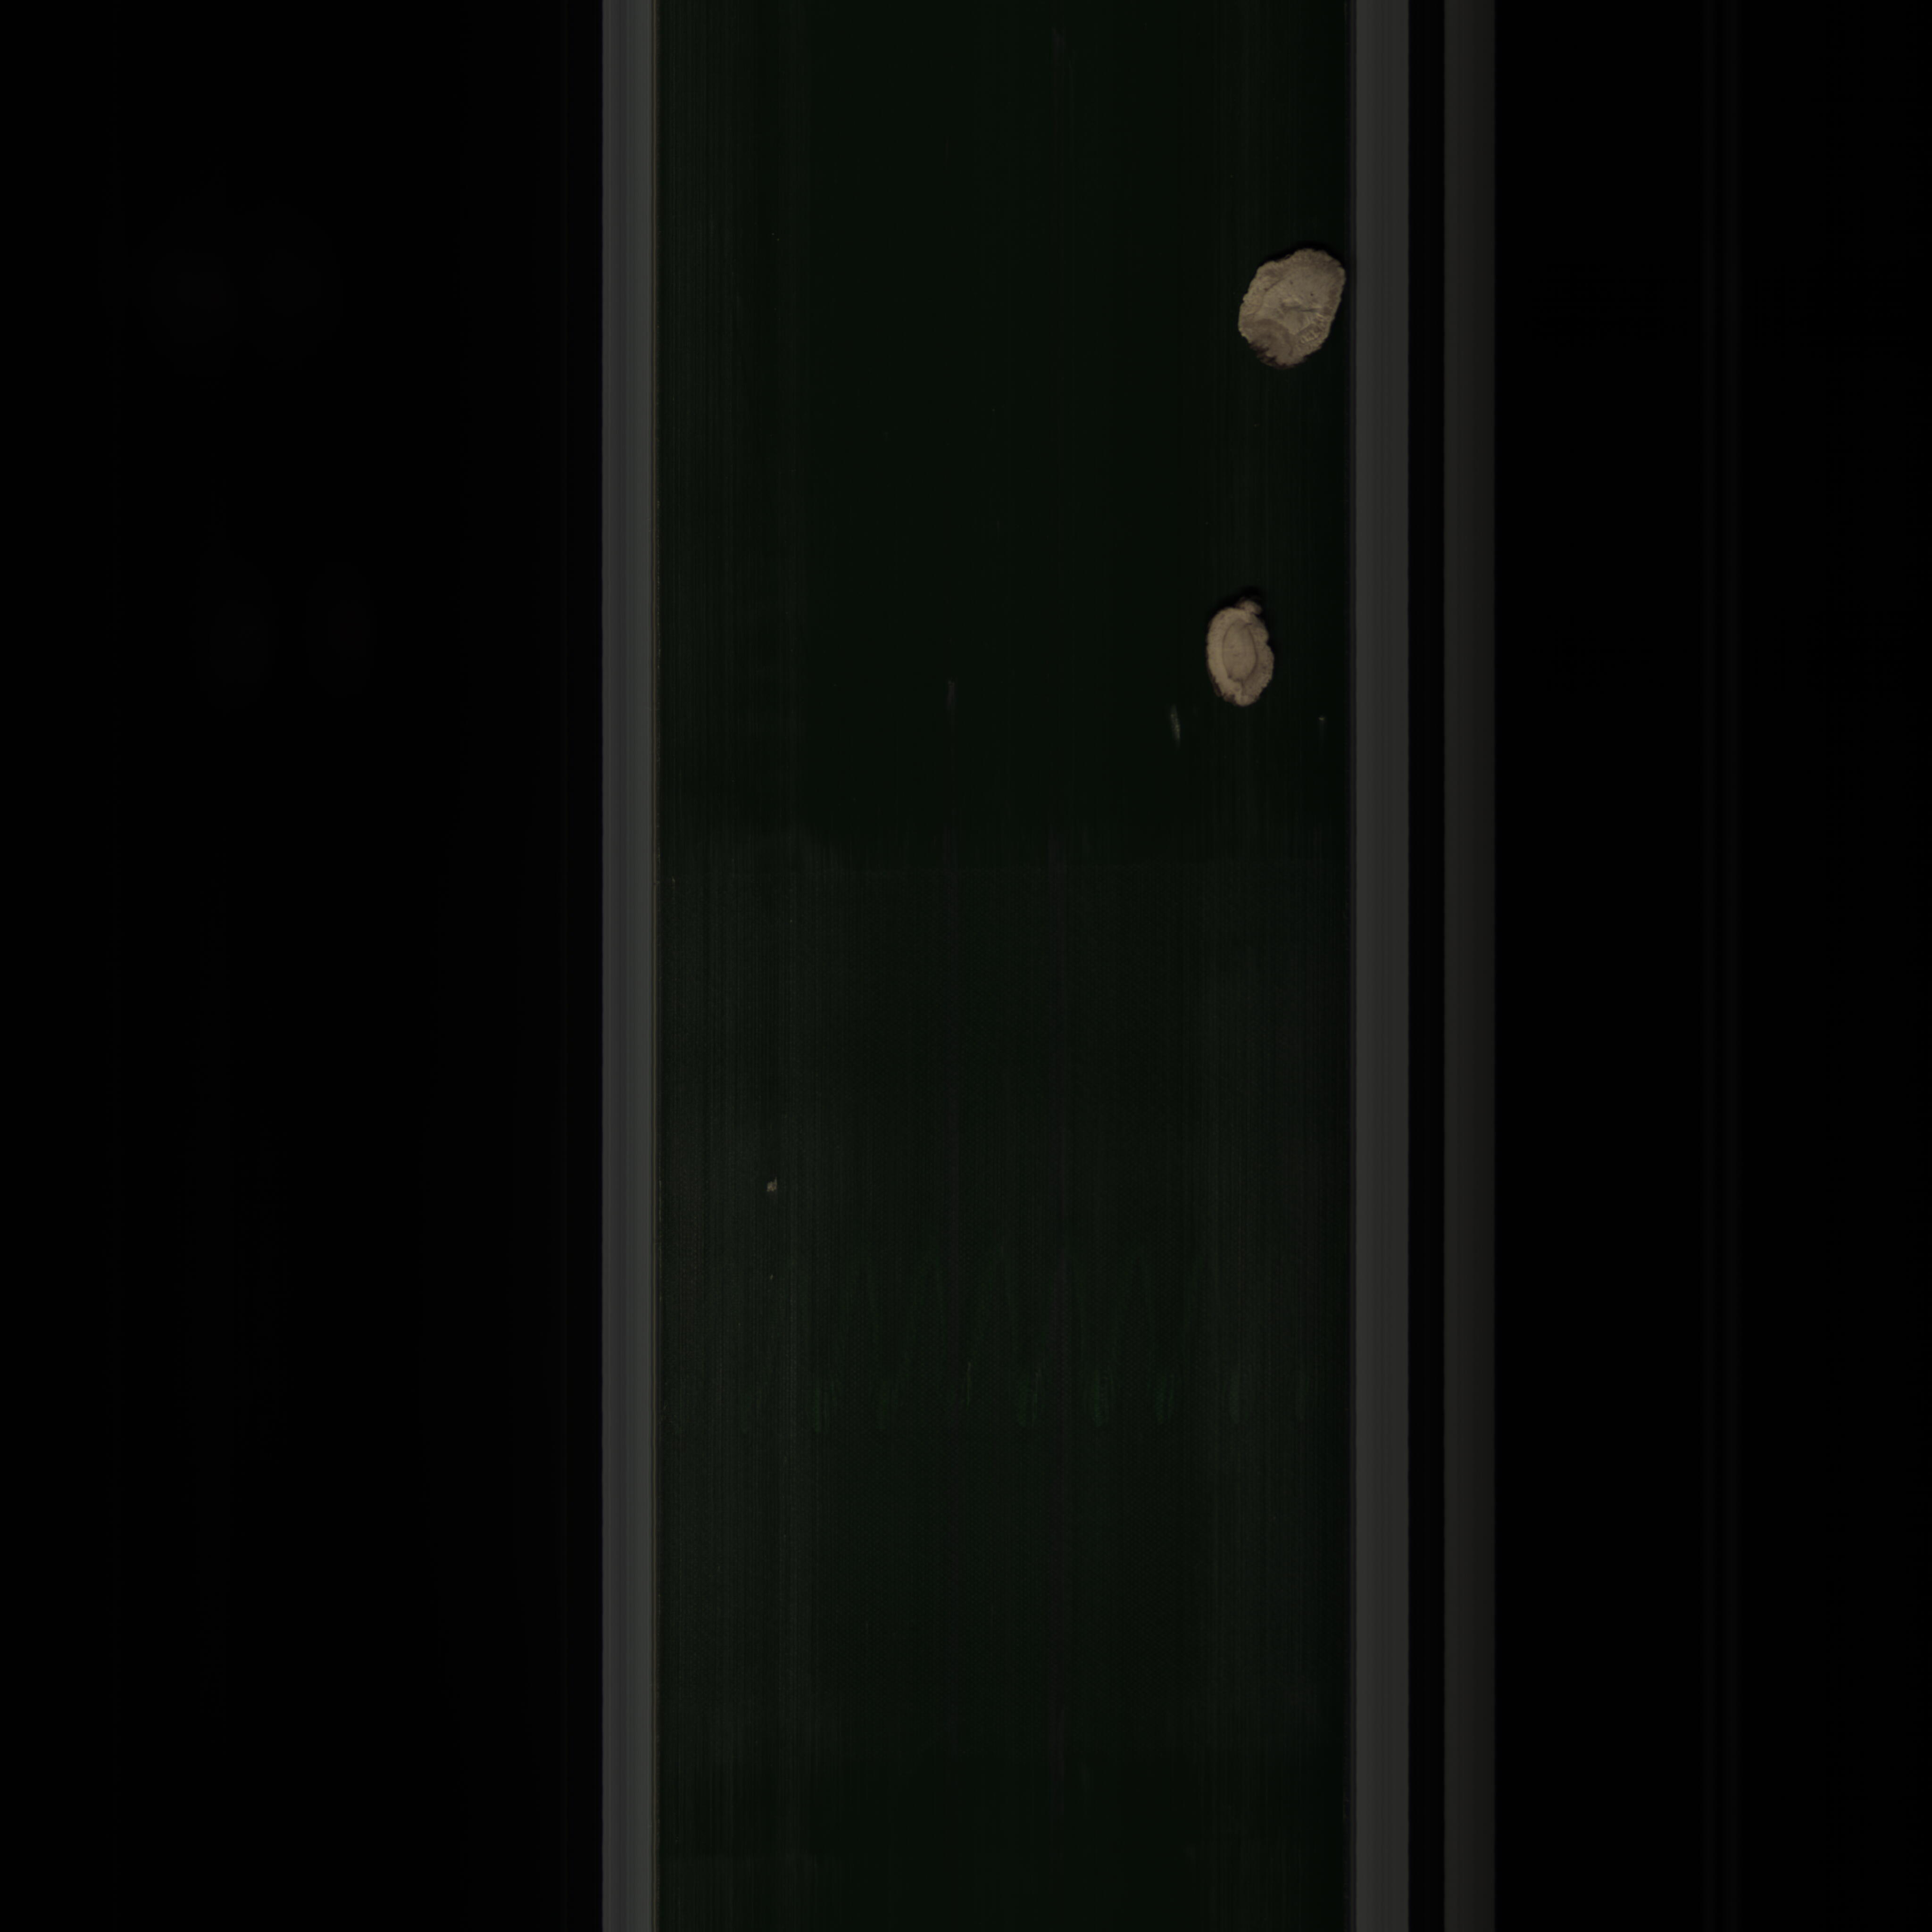distortion: (1194, 593, 1297, 722)
moldy: (1233, 242, 1359, 380)
